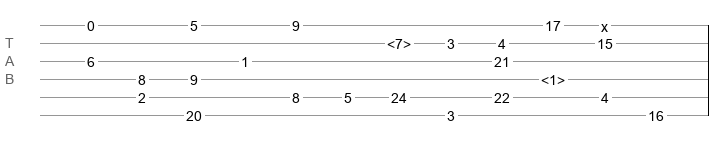0: (87, 18, 95, 28)
1: (241, 54, 249, 64)
15: (597, 36, 613, 46)
16: (648, 108, 664, 118)
17: (545, 18, 561, 28)
2: (138, 90, 146, 100)
20: (186, 108, 202, 118)
21: (494, 54, 510, 64)
22: (494, 90, 510, 100)
24: (391, 90, 407, 100)
3: (447, 108, 455, 118), (447, 36, 455, 46)
4: (498, 36, 506, 46), (601, 90, 609, 100)
5: (190, 18, 198, 28), (344, 90, 352, 100)
6: (87, 54, 95, 64)
8: (138, 72, 146, 82), (292, 90, 300, 100)
9: (190, 72, 198, 82), (292, 18, 300, 28)
harmonic: (387, 36, 411, 46), (541, 72, 565, 82)
x: (601, 19, 608, 27)
